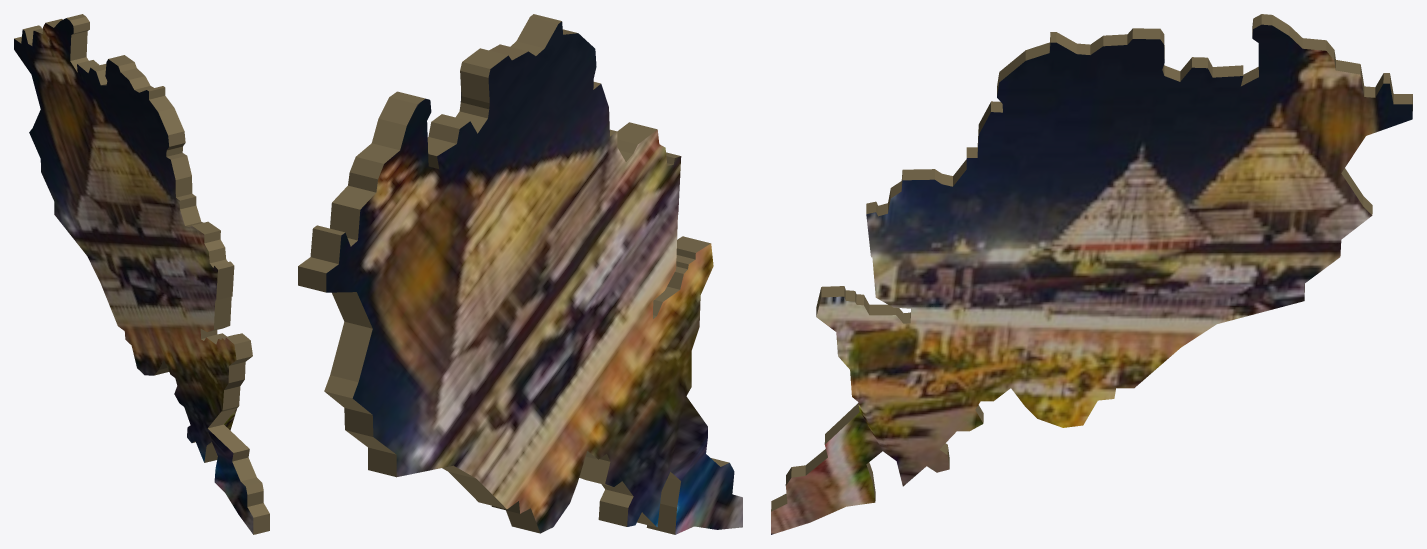
Rendered from ordisha.glb.
3 renders of one model, left to right at view 1: azimuth 30°, elevation 25°; view 2: azimuth 150°, elevation 25°; view 3: azimuth 270°, elevation 25°, orthographic. The views are drawn at different scales.
Parts seen in each view (by area): view 1: Object_32; view 2: Object_32; view 3: Object_32.
Boxes of the visible parts, x1=… form: Object_32: x1=14, y1=14, x2=269, y2=534; Object_32: x1=298, y1=14, x2=742, y2=534; Object_32: x1=771, y1=14, x2=1412, y2=534.
Size of the model in its own units: 0.063 by 0.783 by 0.8928.
1 material, 1 textured.
